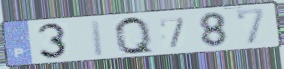3: (35, 22, 71, 62)
7: (234, 6, 271, 47), (158, 16, 187, 49)
8: (197, 10, 230, 49)
I: (89, 19, 107, 58)
Q: (113, 15, 157, 56)
